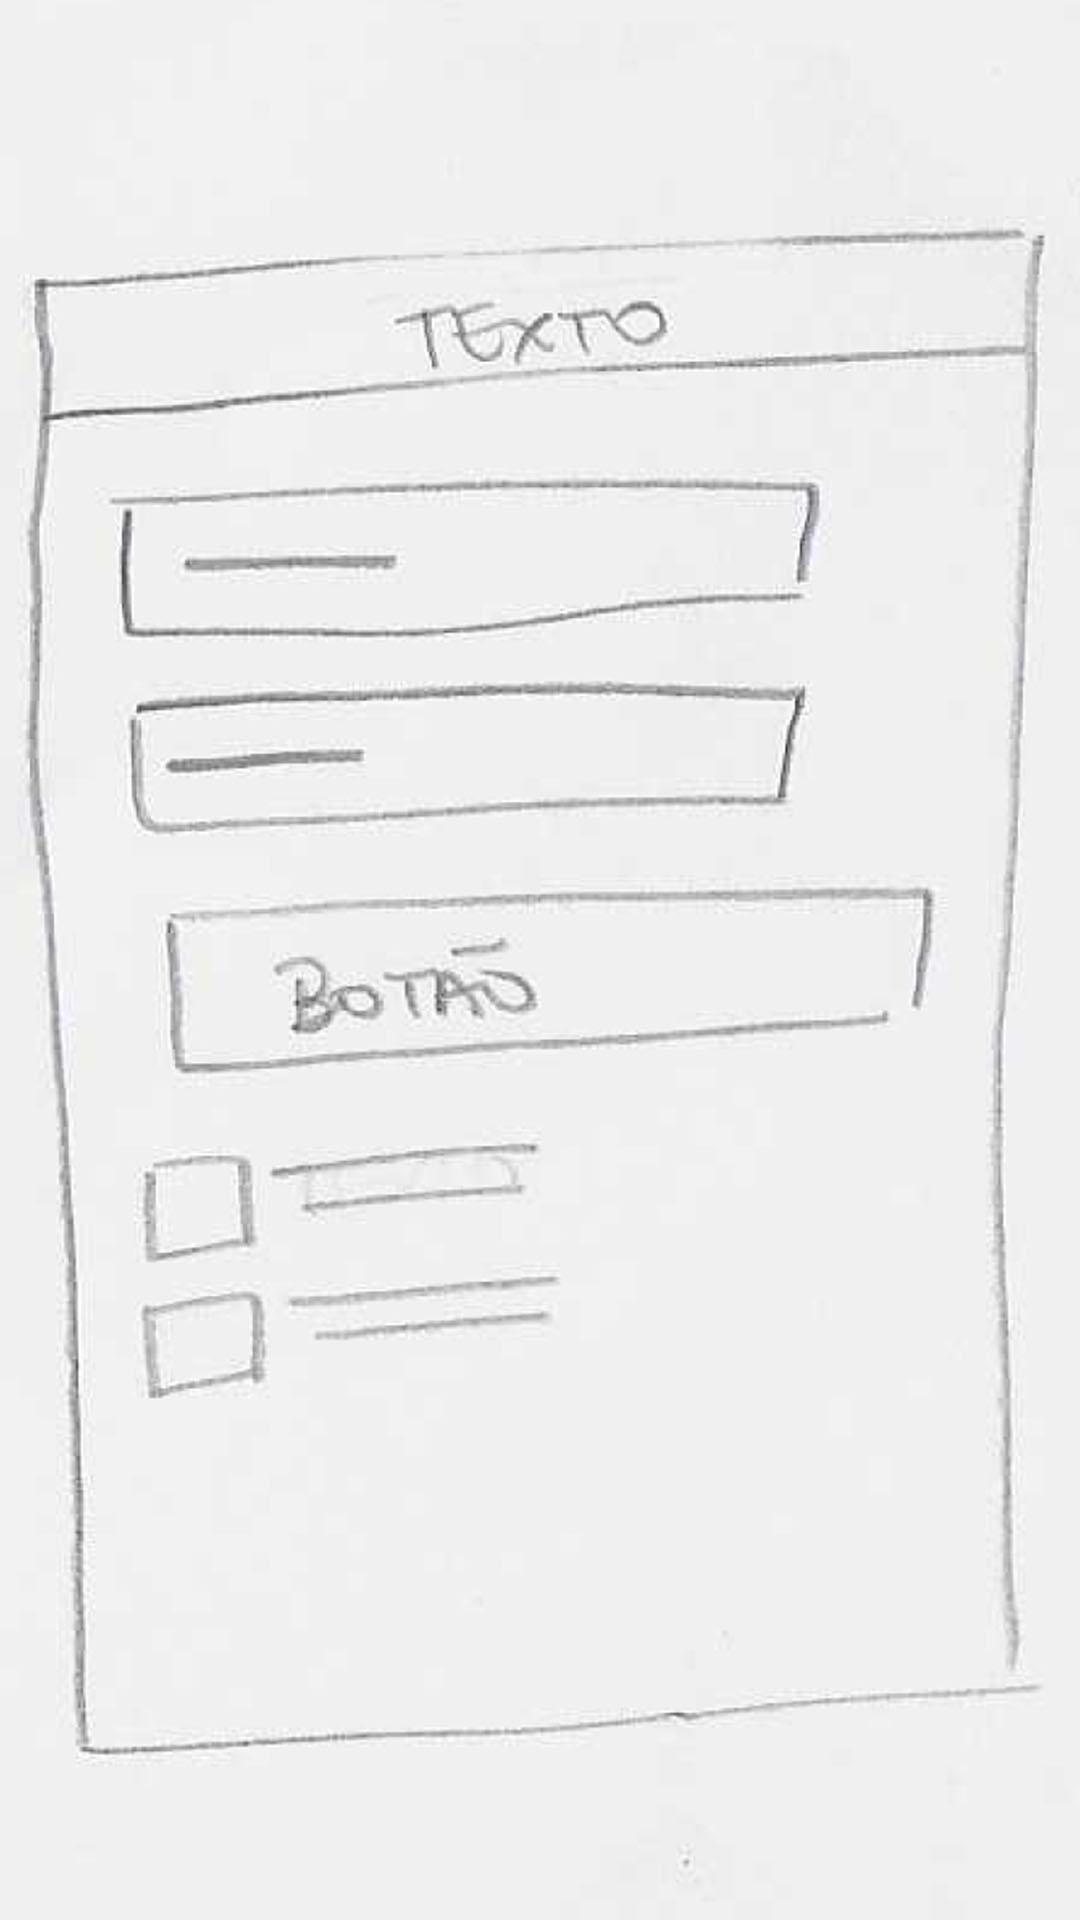Button: (170, 890, 931, 1073)
CheckBox: (142, 1274, 562, 1400), (142, 1142, 537, 1263)
Label: (392, 298, 669, 373)
Screen: (26, 227, 1047, 1755)
TextBox: (120, 481, 816, 638), (128, 686, 806, 835)
